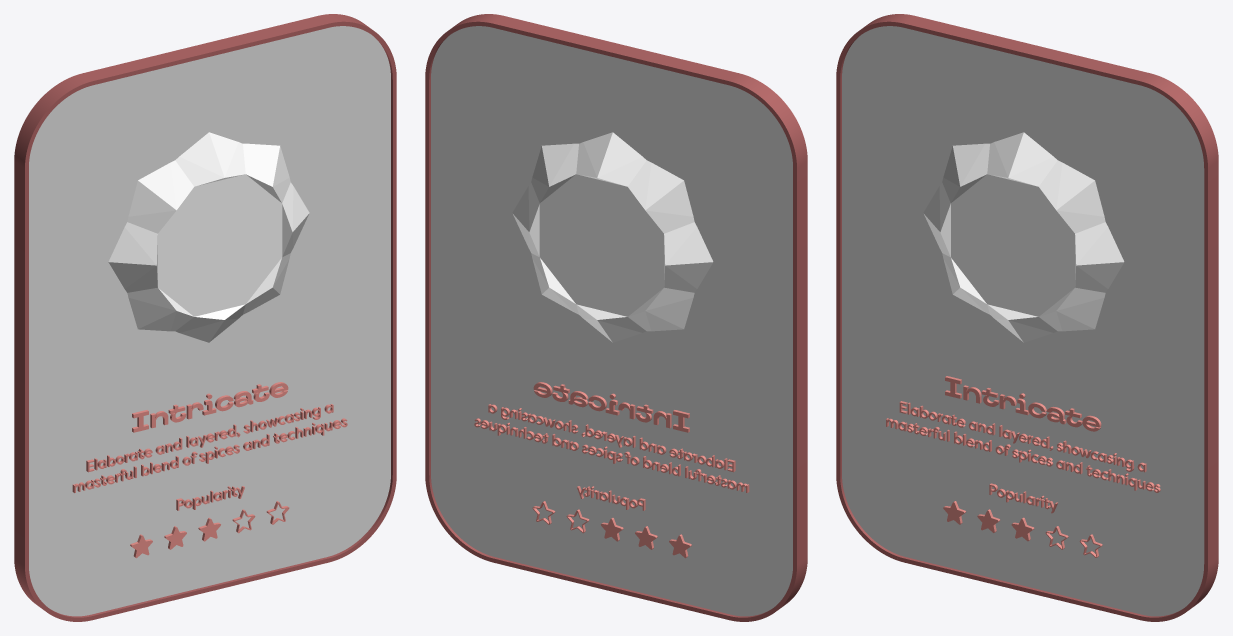
The model's file is intricate.glb.
3 renders of one model, left to right at view 1: azimuth 30°, elevation 25°; view 2: azimuth 150°, elevation 25°; view 3: azimuth 330°, elevation 25°, orthographic.
Visible parts, largest first — view 1: Mesh_2731.001, Jewel_02_Circle, Mesh_2381.002, Mesh_1248.002, Mesh_2587.002, Mesh_2736.002; view 2: Mesh_2731.001, Jewel_02_Circle, Mesh_2381.002, Mesh_1248.002, Mesh_2587.002, Mesh_2736.002; view 3: Mesh_2731.001, Jewel_02_Circle, Mesh_2381.002, Mesh_1248.002, Mesh_2587.002, Mesh_2736.002.
Boxes of the visible parts, x1,y1,x2,y2 form: Mesh_2731.001: (29, 26, 390, 616); Jewel_02_Circle: (108, 132, 309, 342); Mesh_2381.002: (14, 14, 396, 621); Mesh_1248.002: (72, 404, 347, 510); Mesh_2587.002: (132, 382, 288, 432); Mesh_2736.002: (130, 501, 289, 558); Mesh_2731.001: (431, 26, 792, 616); Jewel_02_Circle: (512, 132, 713, 342); Mesh_2381.002: (425, 14, 807, 621); Mesh_1248.002: (474, 404, 749, 510); Mesh_2587.002: (533, 382, 689, 432); Mesh_2736.002: (532, 501, 691, 558); Mesh_2731.001: (842, 26, 1204, 616); Jewel_02_Circle: (923, 132, 1124, 342); Mesh_2381.002: (836, 14, 1218, 621); Mesh_1248.002: (886, 401, 1160, 513); Mesh_2587.002: (945, 376, 1101, 431); Mesh_2736.002: (943, 501, 1102, 557).
Bounding box in the file's own units: 9.06 × 12.55 × 1.62.
